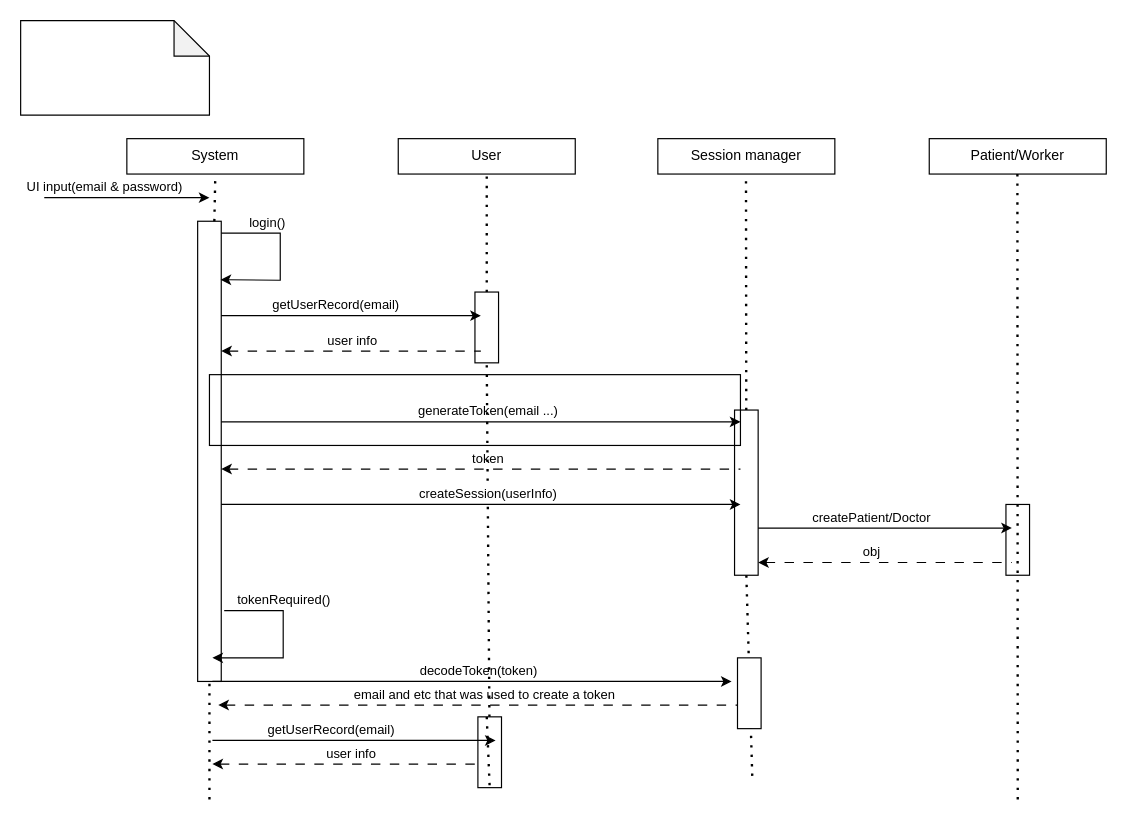
Image size: 1127x822. Some labels were removed from this diagram. The centre of each missing label's shape, as x and y in pixels:
"\LOGIN" goes at pixel 114 67.
"if password is corrrect" goes at pixel 474 409.
